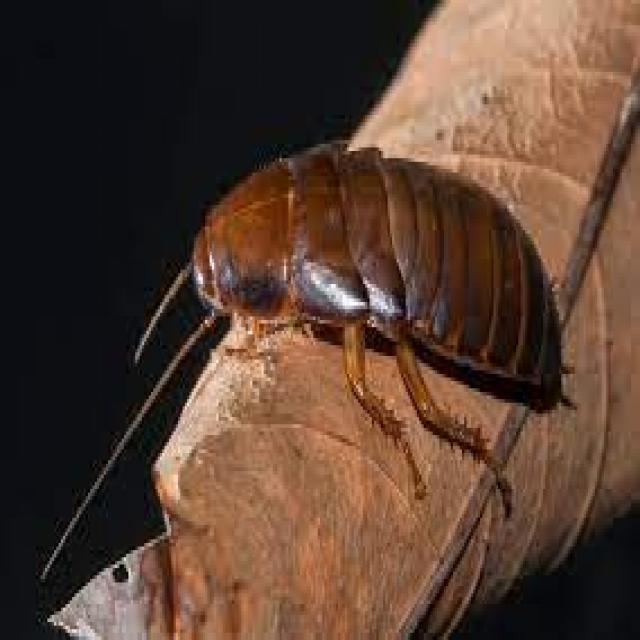Cockroach: (94, 118, 598, 536)
